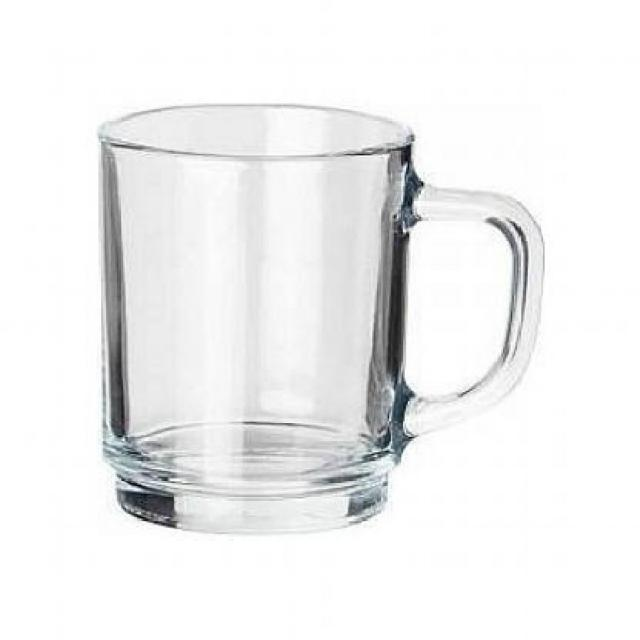taza: (96, 100, 547, 534)
